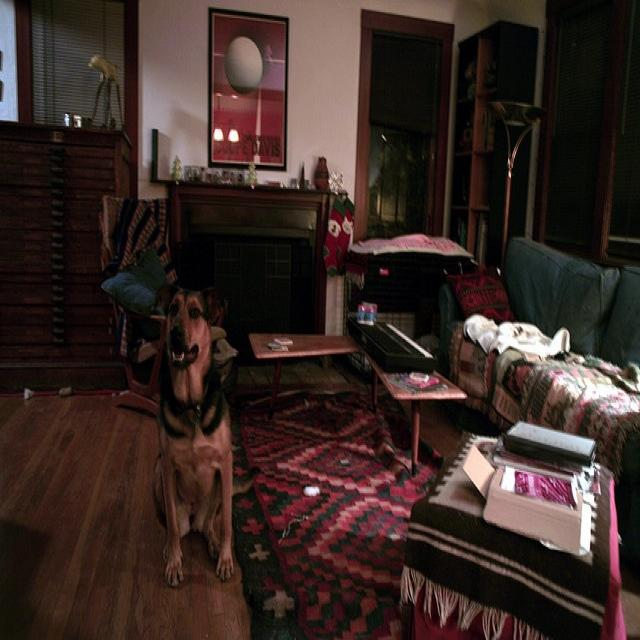dog: (153, 280, 231, 589)
